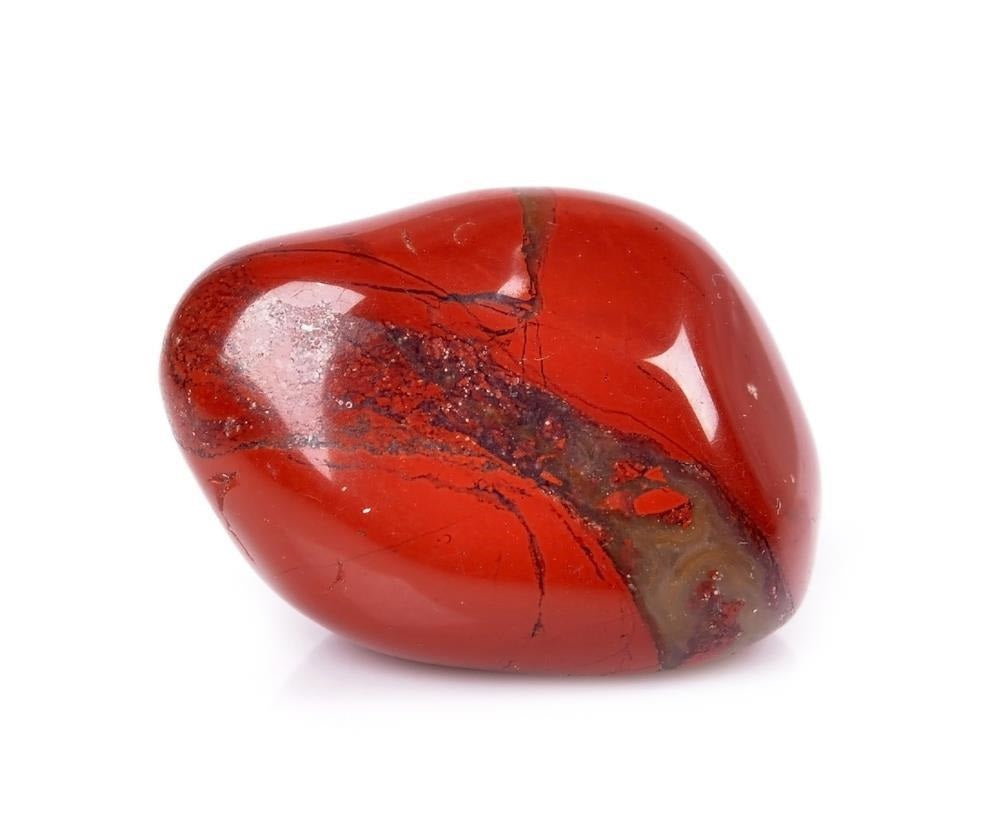Red_Jasper: (160, 178, 831, 683)
